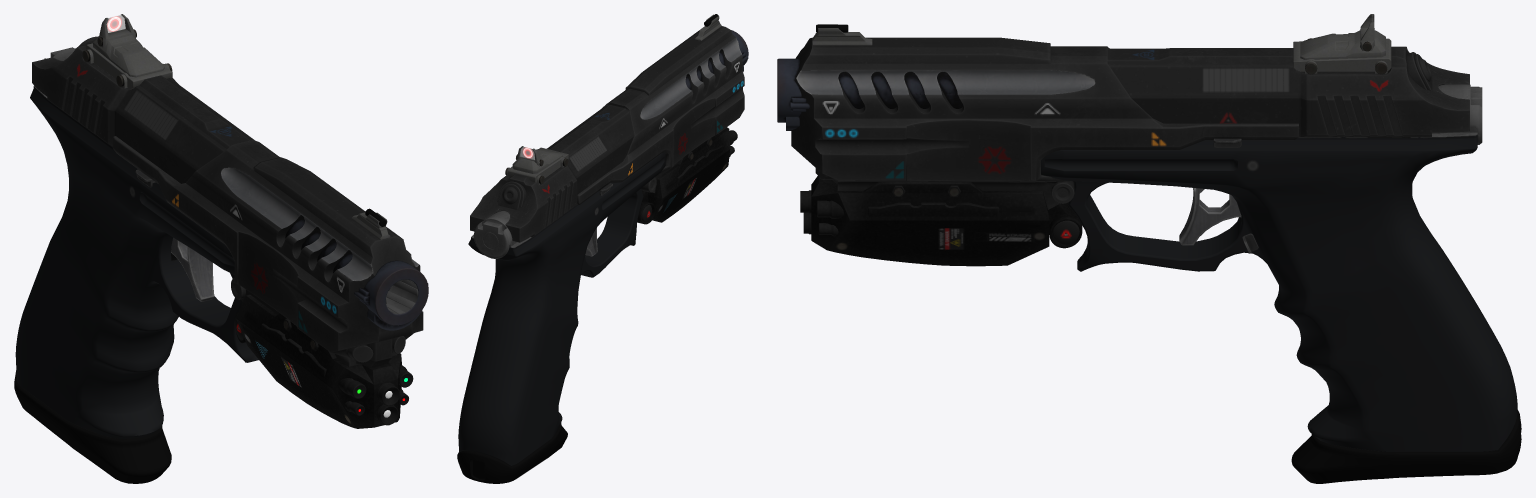
Rendered from Pistol.fbx.
The picture shows the model from 3 angles, left to right: view 1: azimuth 30°, elevation 25°; view 2: azimuth 150°, elevation 25°; view 3: azimuth 270°, elevation 25°; orthographic projection. The views are drawn at different scales.
Visible parts, largest first — view 1: Object_5, Object_4, Object_23, Object_12, Object_21, Object_3, Object_10, Object_24, Object_2, Object_18; view 2: Object_5, Object_4, Object_23, Object_12, Object_21, Object_10, Object_3; view 3: Object_5, Object_4, Object_23, Object_12, Object_21, Object_3, Object_10, Object_24, Object_18.
Boxes of the visible parts, left/top/right/bottom form: Object_5: left=15, top=47, right=258, bottom=438; Object_4: left=112, top=136, right=423, bottom=367; Object_23: left=32, top=36, right=254, bottom=183; Object_12: left=235, top=294, right=413, bottom=428; Object_21: left=14, top=370, right=171, bottom=483; Object_3: left=285, top=216, right=428, bottom=330; Object_10: left=86, top=14, right=172, bottom=89; Object_24: left=171, top=237, right=214, bottom=301; Object_2: left=386, top=279, right=418, bottom=314; Object_18: left=351, top=212, right=390, bottom=239; Object_5: left=458, top=152, right=665, bottom=466; Object_4: left=577, top=26, right=744, bottom=204; Object_23: left=470, top=105, right=633, bottom=242; Object_12: left=637, top=127, right=737, bottom=224; Object_21: left=457, top=422, right=567, bottom=483; Object_10: left=506, top=146, right=568, bottom=184; Object_3: left=685, top=30, right=748, bottom=89; Object_5: left=1041, top=84, right=1517, bottom=451; Object_4: left=791, top=37, right=1298, bottom=209; Object_23: left=1107, top=46, right=1469, bottom=136; Object_12: left=800, top=176, right=1082, bottom=266; Object_21: left=1291, top=410, right=1521, bottom=483; Object_3: left=777, top=58, right=963, bottom=130; Object_10: left=1293, top=14, right=1391, bottom=73; Object_24: left=1179, top=188, right=1241, bottom=245; Object_18: left=812, top=24, right=872, bottom=45.
Size of the model in its own units: 3.29 by 15.36 by 22.63.
24 materials, 14 textured.
